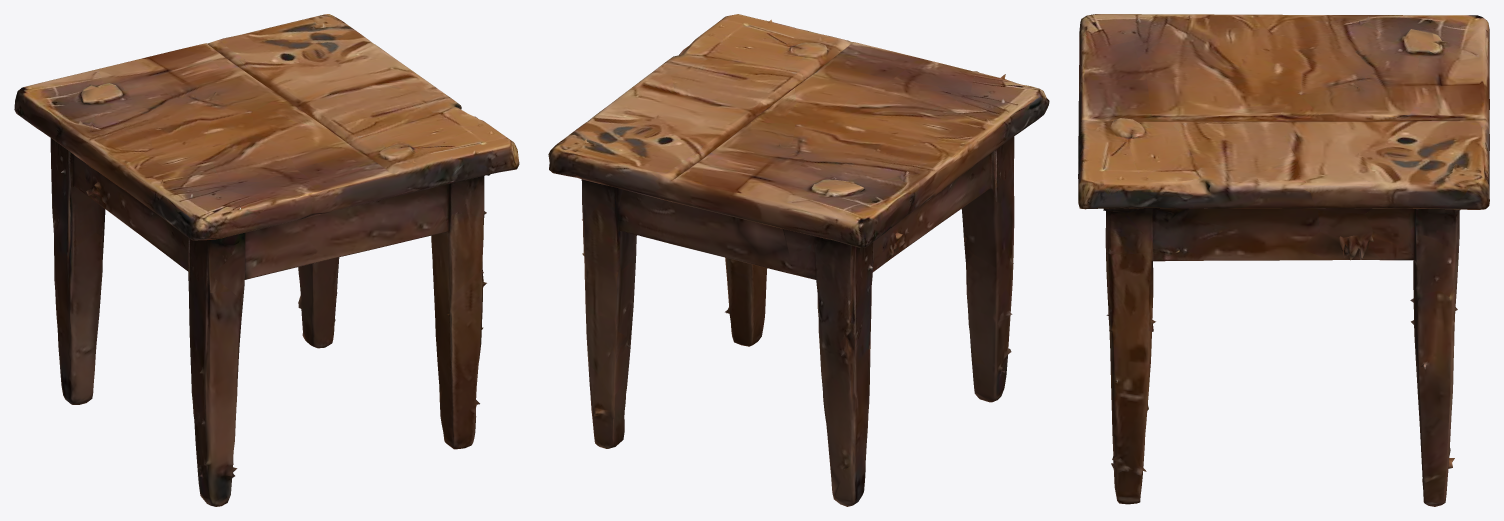
Rendered from notice.glb.
3 views of the same model, side by side, from view 1: azimuth 30°, elevation 25°; view 2: azimuth 150°, elevation 25°; view 3: azimuth 270°, elevation 25° (orthographic). The views are drawn at different scales.
Visible parts, largest first — view 1: tripo_node_29a4a869-165f-417a-a60d-202099084456; view 2: tripo_node_29a4a869-165f-417a-a60d-202099084456; view 3: tripo_node_29a4a869-165f-417a-a60d-202099084456.
Part boxes in pixels (x1,y1,x2,y2): tripo_node_29a4a869-165f-417a-a60d-202099084456: [14, 14, 519, 506]; tripo_node_29a4a869-165f-417a-a60d-202099084456: [548, 14, 1049, 506]; tripo_node_29a4a869-165f-417a-a60d-202099084456: [1078, 14, 1489, 506].
Size of the model in its own units: 0.9986 by 0.9312 by 0.9993.
Materials: 1 (1 with a texture image).
